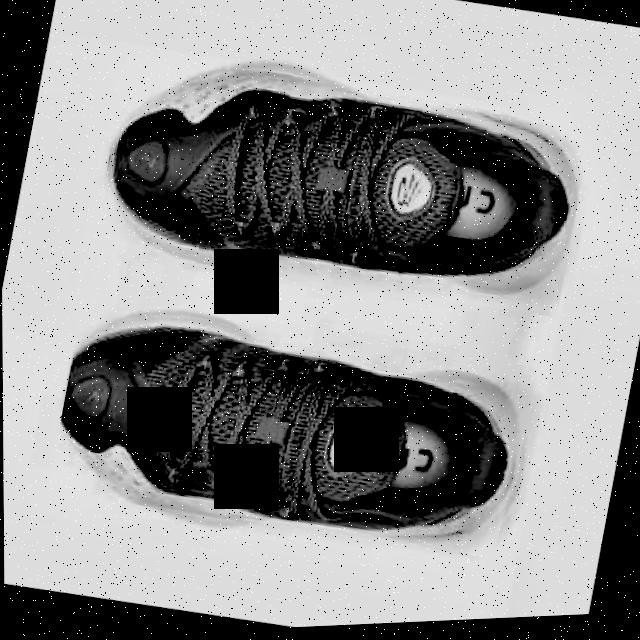shoe: (87, 18, 597, 339), (46, 276, 545, 581)
